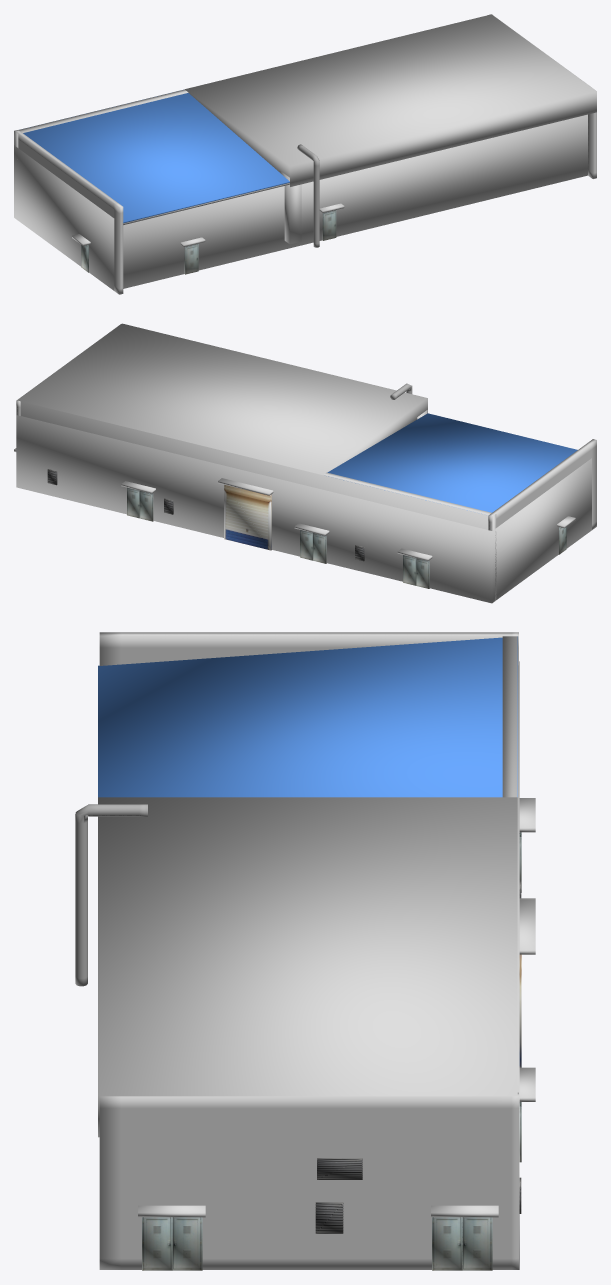
File: sg_2f_mini.gltf
The picture shows the model from 3 angles, top to bottom: view 1: azimuth 30°, elevation 25°; view 2: azimuth 150°, elevation 25°; view 3: azimuth 270°, elevation 25°; orthographic projection. The views are drawn at different scales.
Visible parts, largest first — view 1: sg_waiguan_13, sg_waiguan_1, sg_waiguan, sg_waiguan_2, sg_waiguan_14, sg_waiguan_15, sg_waiguan_17, sg_waiguan_3, sg_waiguan_29, sg_waiguan_30, sg_waiguan_16; view 2: sg_waiguan_1, sg_waiguan_13, sg_waiguan, sg_waiguan_15, sg_waiguan_31, sg_waiguan_2, sg_waiguan_19, sg_waiguan_33, sg_waiguan_36, sg_waiguan_35; view 3: sg_waiguan_13, sg_waiguan_3, sg_waiguan, sg_waiguan_2, sg_waiguan_15, sg_waiguan_17, sg_waiguan_22, sg_waiguan_23, sg_waiguan_26, sg_waiguan_27, sg_waiguan_1, sg_waiguan_24 (+4 smaller).
Boxes of the visible parts, x1,y1,x2,y2 form: sg_waiguan_13: (185, 14, 596, 186); sg_waiguan_1: (14, 114, 587, 290); sg_waiguan: (23, 89, 289, 223); sg_waiguan_2: (14, 130, 123, 294); sg_waiguan_14: (279, 170, 301, 244); sg_waiguan_15: (14, 89, 188, 217); sg_waiguan_17: (297, 144, 319, 247); sg_waiguan_3: (489, 14, 596, 178); sg_waiguan_29: (322, 210, 336, 240); sg_waiguan_30: (184, 243, 198, 274); sg_waiguan_16: (123, 183, 289, 225); sg_waiguan_1: (16, 415, 591, 603); sg_waiguan_13: (17, 323, 427, 474); sg_waiguan: (327, 413, 577, 513); sg_waiguan_15: (20, 401, 496, 600); sg_waiguan_31: (224, 484, 271, 550); sg_waiguan_2: (488, 439, 596, 530); sg_waiguan_19: (139, 491, 153, 521); sg_waiguan_33: (313, 533, 326, 563); sg_waiguan_36: (416, 558, 429, 588); sg_waiguan_35: (403, 555, 416, 585); sg_waiguan_13: (98, 797, 517, 1137); sg_waiguan_3: (99, 1092, 518, 1269); sg_waiguan: (98, 636, 517, 797); sg_waiguan_2: (99, 632, 518, 665); sg_waiguan_15: (502, 636, 518, 1092); sg_waiguan_17: (75, 804, 147, 986); sg_waiguan_22: (432, 1217, 462, 1270); sg_waiguan_23: (462, 1217, 492, 1270); sg_waiguan_26: (142, 1217, 172, 1270); sg_waiguan_27: (172, 1217, 202, 1270); sg_waiguan_1: (518, 661, 519, 1269); sg_waiguan_24: (317, 1158, 362, 1179).
Size of the model in its own units: 167 by 30.72 by 67.68.
Materials: 8 (5 with a texture image).
